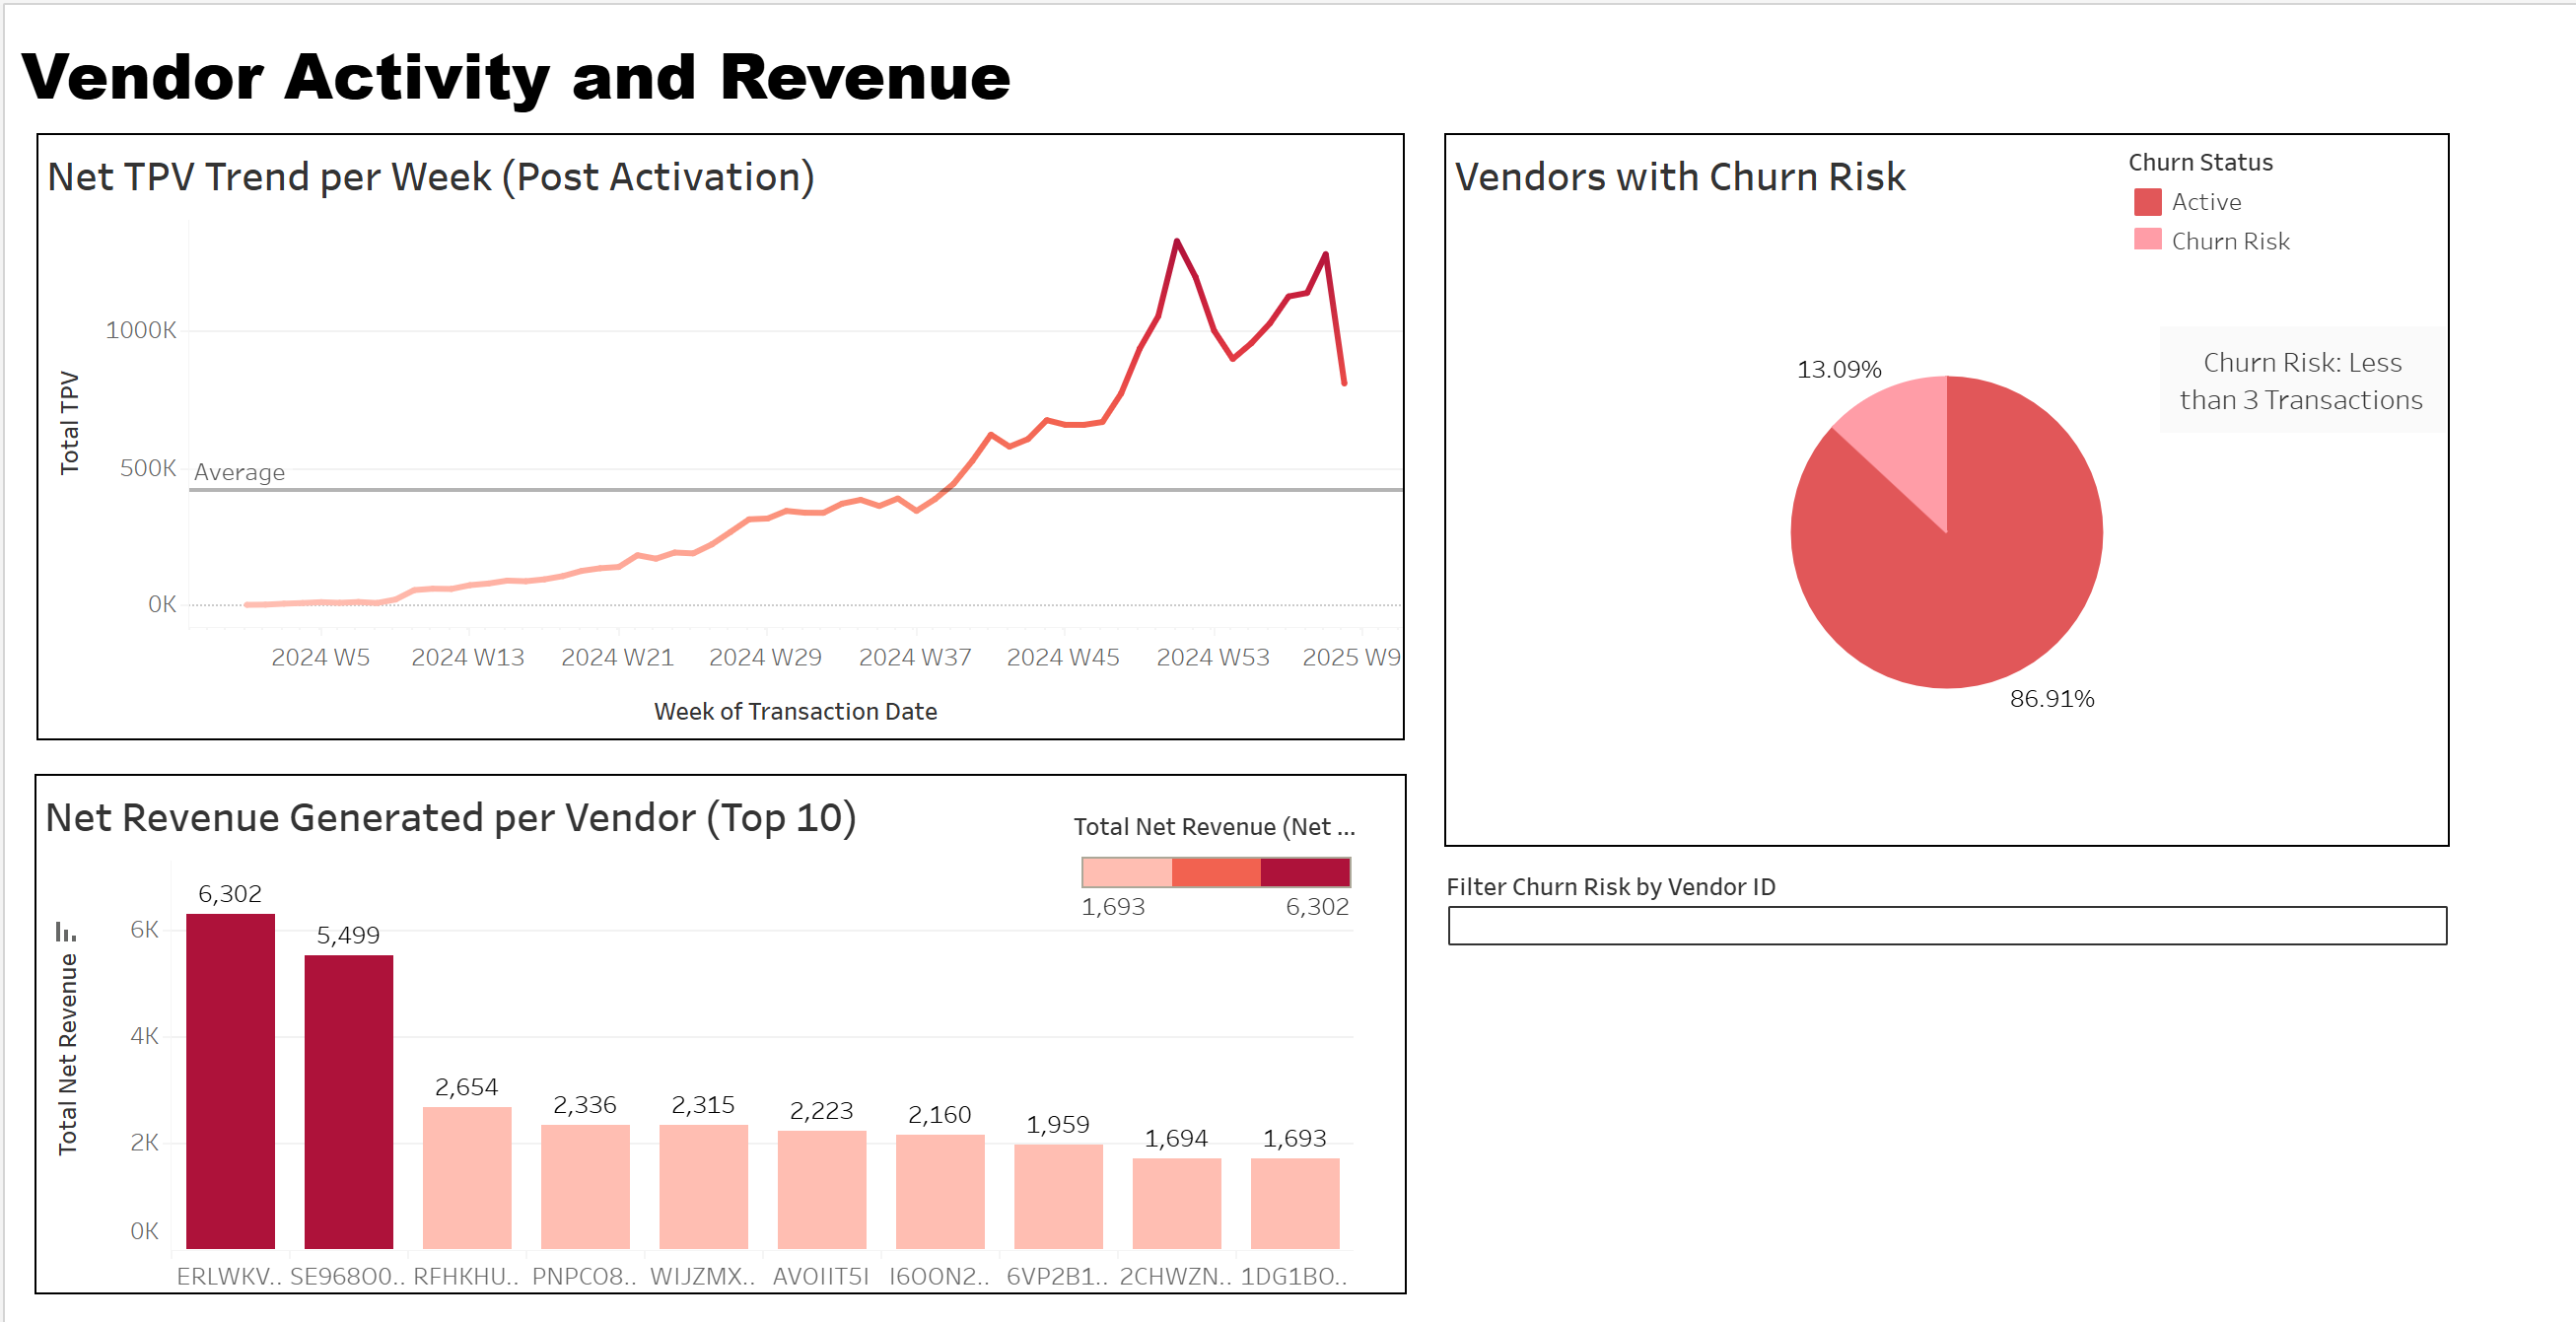

What the dashboard file says about the page in this screenshot:
{"tool":"tableau","page":{"name":"Dashboard 2","canvas":[1000,1000],"units":"permille","ordinal":1},"visuals":[{"type":"text","box":[6,16.3,519,72]},{"type":"worksheet","title":"Net TPV Trend Post Activation","mark":"Line","rows":["total_tpv"],"cols":["transaction_date (daily_revenue_trend2.csv)"],"box":[12,96.5,528.5,460.6]},{"type":"worksheet","title":"Churn Risk Pie Chart","mark":"Pie","box":[556.2,96.5,388.3,542.1]},{"type":"legend","title":"Churn Risk Pie Chart","param":"[federated.07kt5c90lsa3ut13zqksk0xcdac8].[none:churn_status:nk]","box":[820.6,106,104.2,78.8]},{"type":"worksheet","title":"Net Revenue Generated Per Merchant","mark":"Bar","rows":["total_net_revenue (net_revenue_per_merchant.csv)"],"cols":["merchant_id"],"box":[8.2,577.5,536,406.2]},{"type":"legend","title":"Net Revenue Generated Per Merchant","param":"[federated.07kt5c90lsa3ut13zqksk0xcdac8].[sum:total_net_revenue (net_revenue_per","box":[413,610.1,110.2,81.5]}]}

Visuals, with their boxes on the dashboard's canvas, which has no fixed pixel size, in thousandths of its width and height (x1, y1, x2, y2). These are canvas units, not pixel positions in the 2576x1322 screenshot, which may show the page scaled, cropped or inside an application window:
text: (left=6, top=16, right=525, bottom=88)
"Net TPV Trend Post Activation" worksheet (Line marks): (left=12, top=96, right=540, bottom=557)
"Churn Risk Pie Chart" worksheet (Pie marks): (left=556, top=96, right=944, bottom=639)
"Churn Risk Pie Chart" legend: (left=821, top=106, right=925, bottom=185)
"Net Revenue Generated Per Merchant" worksheet (Bar marks): (left=8, top=578, right=544, bottom=984)
"Net Revenue Generated Per Merchant" legend: (left=413, top=610, right=523, bottom=692)
